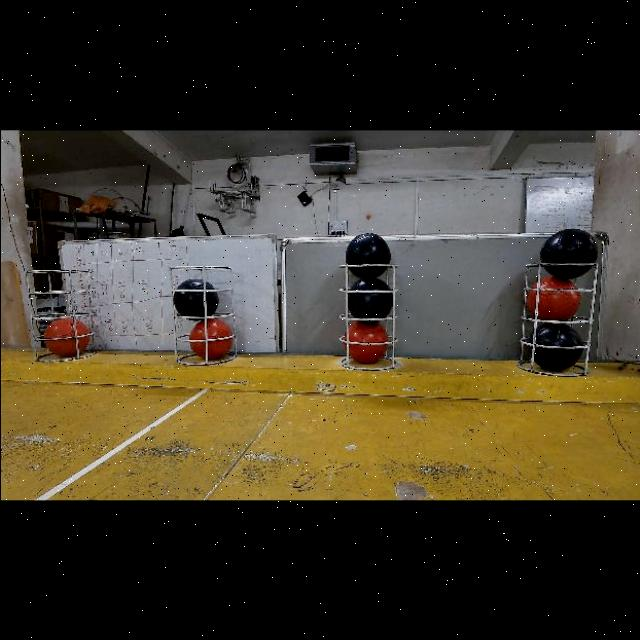P: (539, 226, 597, 278), (530, 322, 585, 368), (342, 231, 389, 276), (348, 275, 393, 317), (171, 276, 218, 315)
R: (527, 275, 581, 321), (344, 320, 387, 363), (188, 317, 232, 359), (45, 316, 92, 355)
S: (516, 258, 592, 374), (172, 264, 236, 364), (339, 260, 395, 372), (23, 268, 91, 358)
